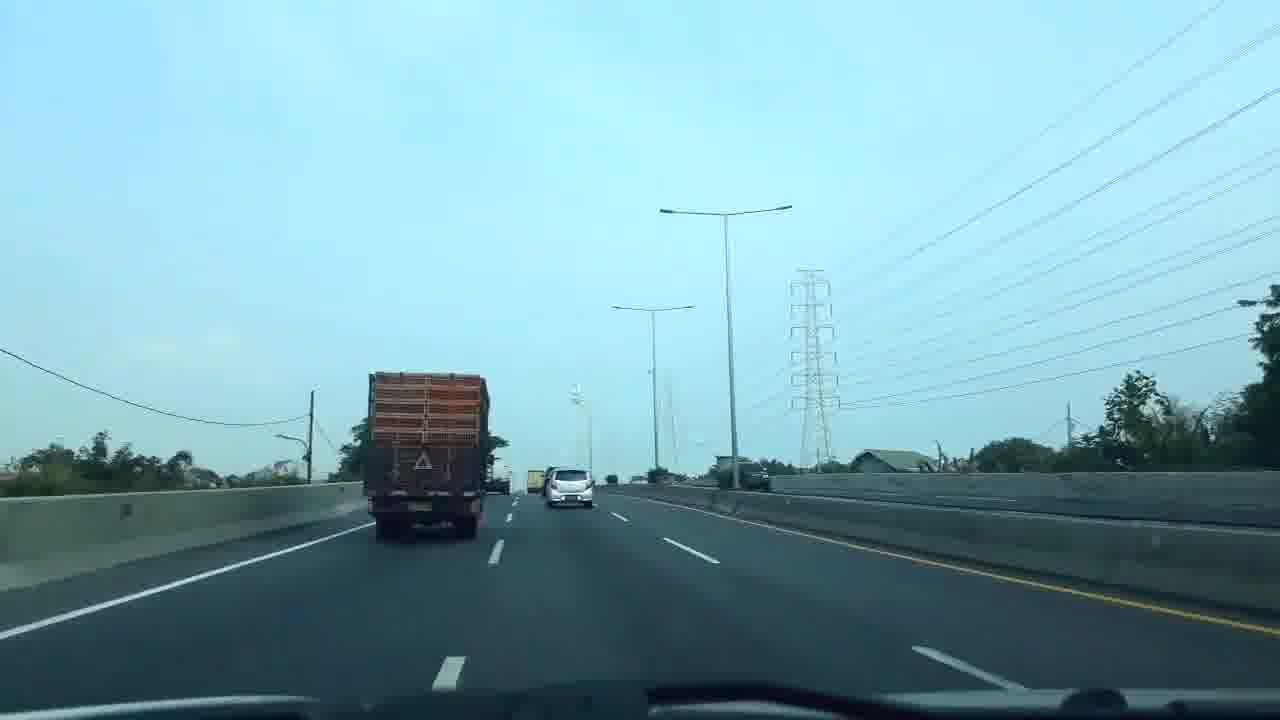plate_positive: (408, 500, 433, 511), (565, 496, 578, 501)
